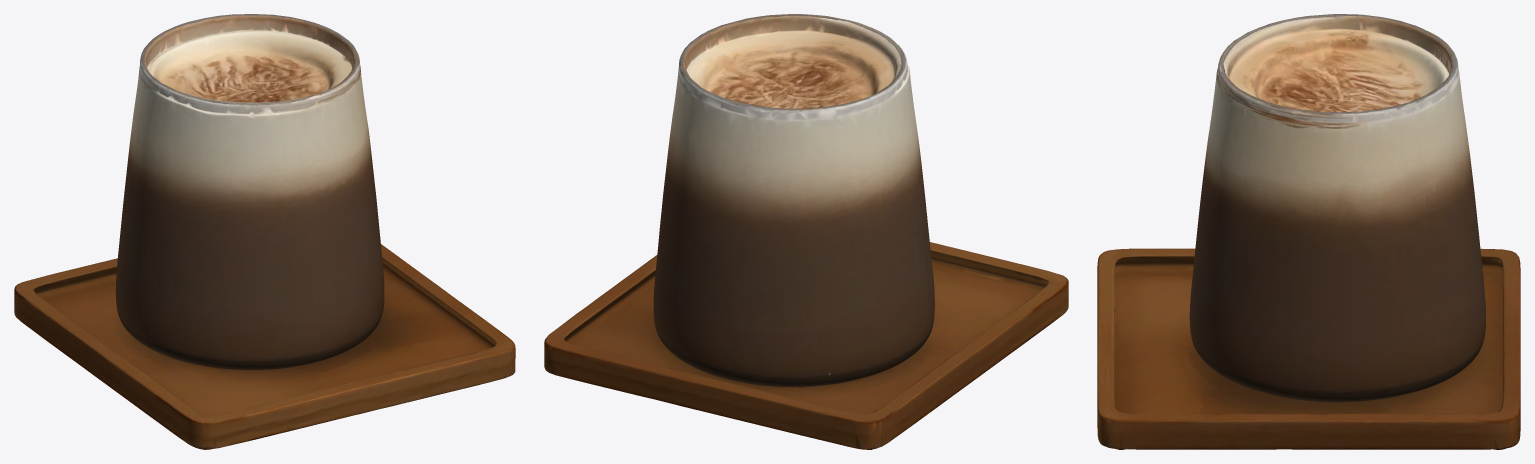
File: latte.glb
3 views of the same model, side by side, from view 1: azimuth 30°, elevation 25°; view 2: azimuth 150°, elevation 25°; view 3: azimuth 270°, elevation 25° (orthographic). The views are drawn at different scales.
Visible parts, largest first — view 1: tripo_node_a7035976-5af5-4812-9877-179c54ca3891; view 2: tripo_node_a7035976-5af5-4812-9877-179c54ca3891; view 3: tripo_node_a7035976-5af5-4812-9877-179c54ca3891.
Boxes of the visible parts, <box> form: tripo_node_a7035976-5af5-4812-9877-179c54ca3891: <box>14,14,515,449</box>; tripo_node_a7035976-5af5-4812-9877-179c54ca3891: <box>544,14,1068,449</box>; tripo_node_a7035976-5af5-4812-9877-179c54ca3891: <box>1097,14,1520,449</box>.
Bounding box in the file's own units: 0.946 × 0.7786 × 0.9794.
1 material, 1 textured.
